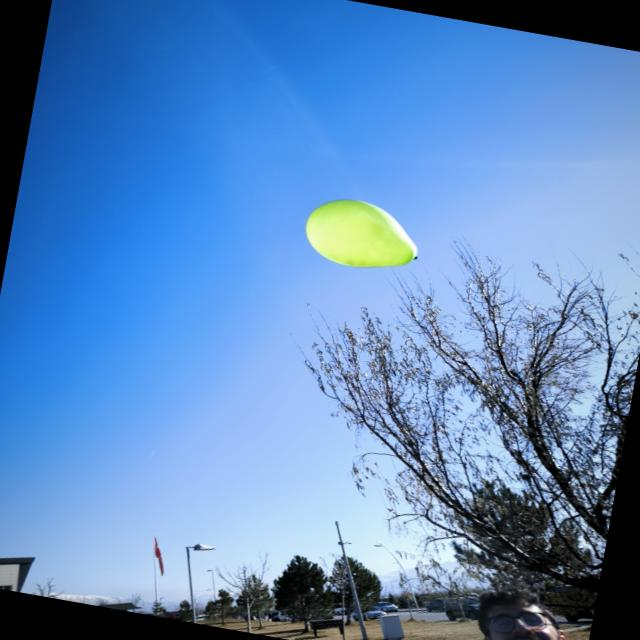balloon: (305, 199, 416, 267)
